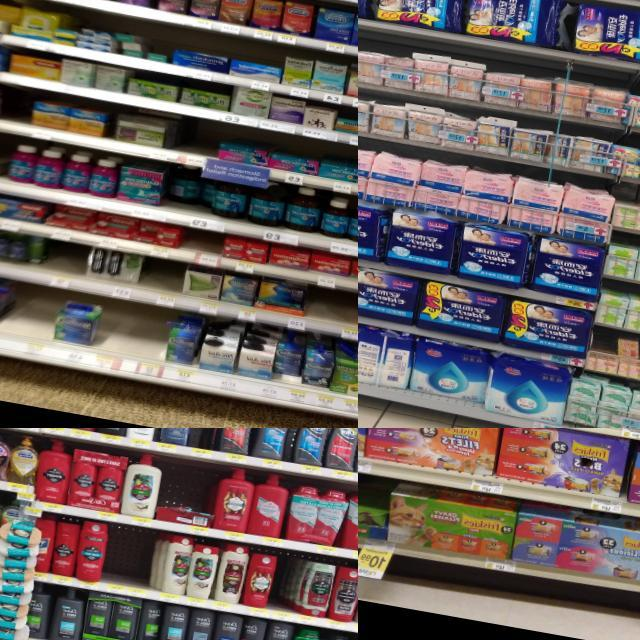void: (0, 285, 57, 356), (122, 308, 170, 377), (305, 285, 358, 338), (90, 306, 130, 370), (101, 524, 133, 595), (126, 529, 158, 599), (45, 240, 88, 290), (143, 257, 184, 307), (270, 553, 296, 621), (182, 120, 216, 168), (182, 228, 224, 266), (5, 88, 34, 136), (186, 426, 219, 458)
